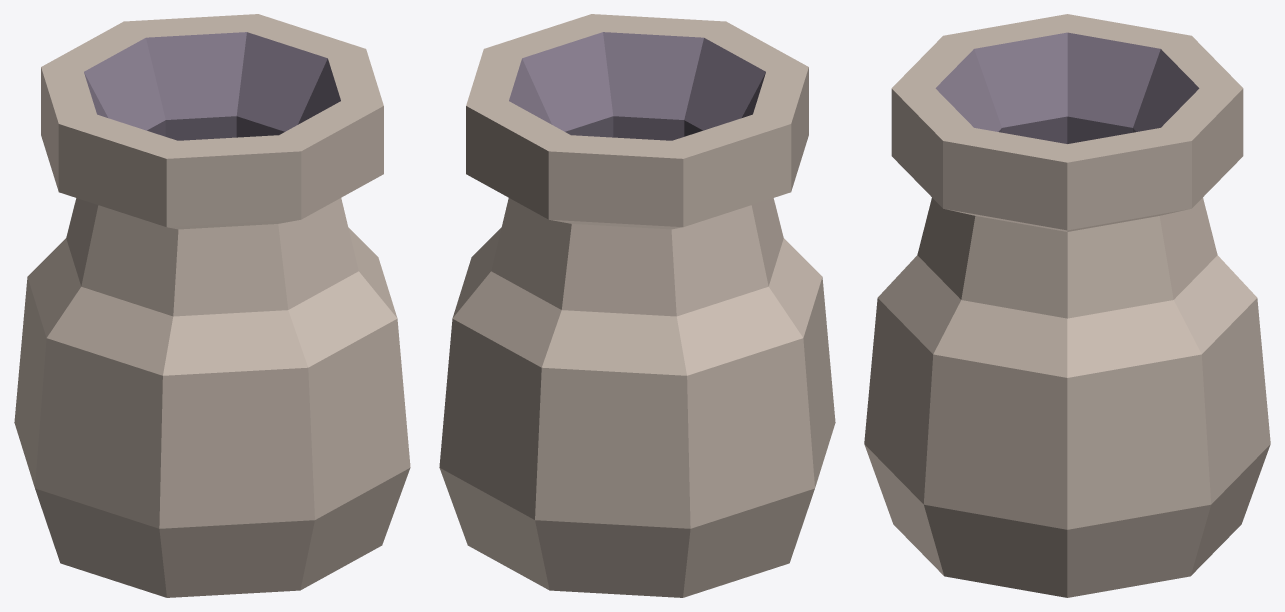
The model's file is pot.glb.
3 views of the same model, side by side, from view 1: azimuth 30°, elevation 25°; view 2: azimuth 150°, elevation 25°; view 3: azimuth 270°, elevation 25° (orthographic).
Visible parts, largest first — view 1: pot-col; view 2: pot-col; view 3: pot-col.
Boxes of the visible parts, x1,y1,x2,y2 form: pot-col: [14, 14, 410, 597]; pot-col: [439, 14, 835, 597]; pot-col: [864, 14, 1270, 597].
Size of the model in its own units: 2.03 by 2.41 by 2.03.
1 material, 1 textured.
